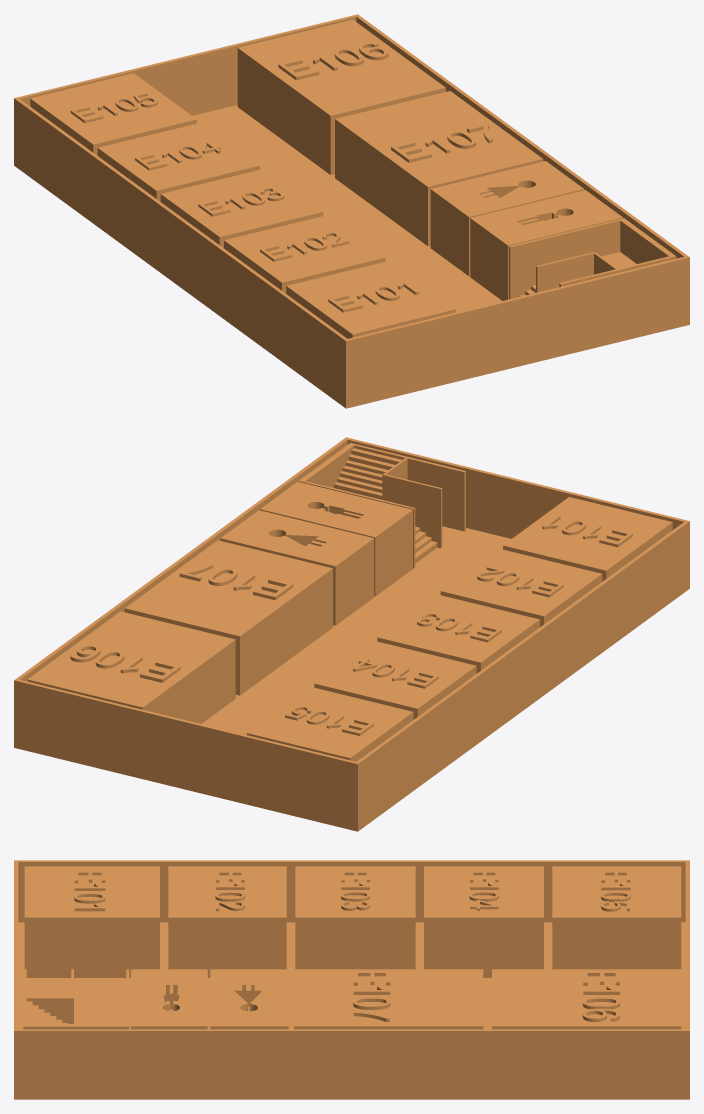
The model's file is Edificio E - Piso1 con Letras.obj.
3 views of the same model, one above another, from view 1: azimuth 30°, elevation 25°; view 2: azimuth 150°, elevation 25°; view 3: azimuth 270°, elevation 25° (orthographic).
Parts seen in each view (by area): view 1: E_P1_Grupo_13, E106, E107, E101, E105, E103, E_P1_Grupo_1, E104, E102, E_P1_Grupo_2; view 2: E_P1_Grupo_13, E107, E106, E101, E105, E_P1_Grupo_1, E103, E104, E102, E_P1_Grupo_2; view 3: E_P1_Grupo_13, E101, E105, E103, E104, E102, E106, E107, E_P1_Grupo_1, E_P1_Grupo_2.
Boxes of the visible parts, x1,y1,x2,y2 form: E_P1_Grupo_13: (14,14,689,408); E106: (237,19,445,174); E107: (335,91,543,246); E101: (286,260,456,338); E105: (30,73,196,155); E103: (160,169,323,247); E_P1_Grupo_1: (430,161,584,276); E104: (97,122,259,201); E102: (224,215,385,293); E_P1_Grupo_2: (470,190,623,300); E_P1_Grupo_13: (14,437,689,831); E107: (124,540,332,695); E106: (27,611,235,723); E101: (503,497,672,581); E105: (246,686,413,761); E_P1_Grupo_1: (220,510,373,625); E103: (377,594,539,673); E104: (314,640,476,719); E102: (440,548,602,626); E_P1_Grupo_2: (260,481,412,596); E_P1_Grupo_13: (14,860,689,1099); E101: (24,866,159,977); E105: (552,866,681,969); E103: (295,866,415,969); E104: (424,866,543,977); E102: (168,866,286,977); E106: (492,969,681,1029); E107: (294,969,483,1029); E_P1_Grupo_1: (210,969,288,1029); E_P1_Grupo_2: (131,969,207,1029).
Bounding box in the file's own units: 2417 × 475 × 4044.
